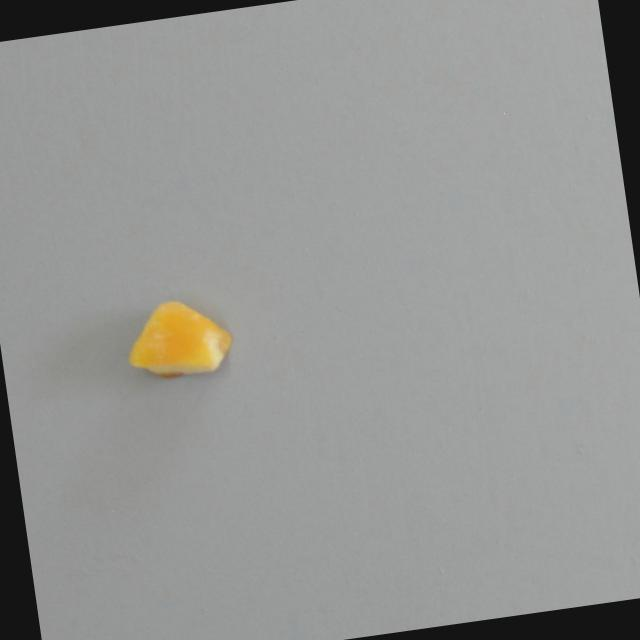pelicula: (118, 291, 236, 387)
